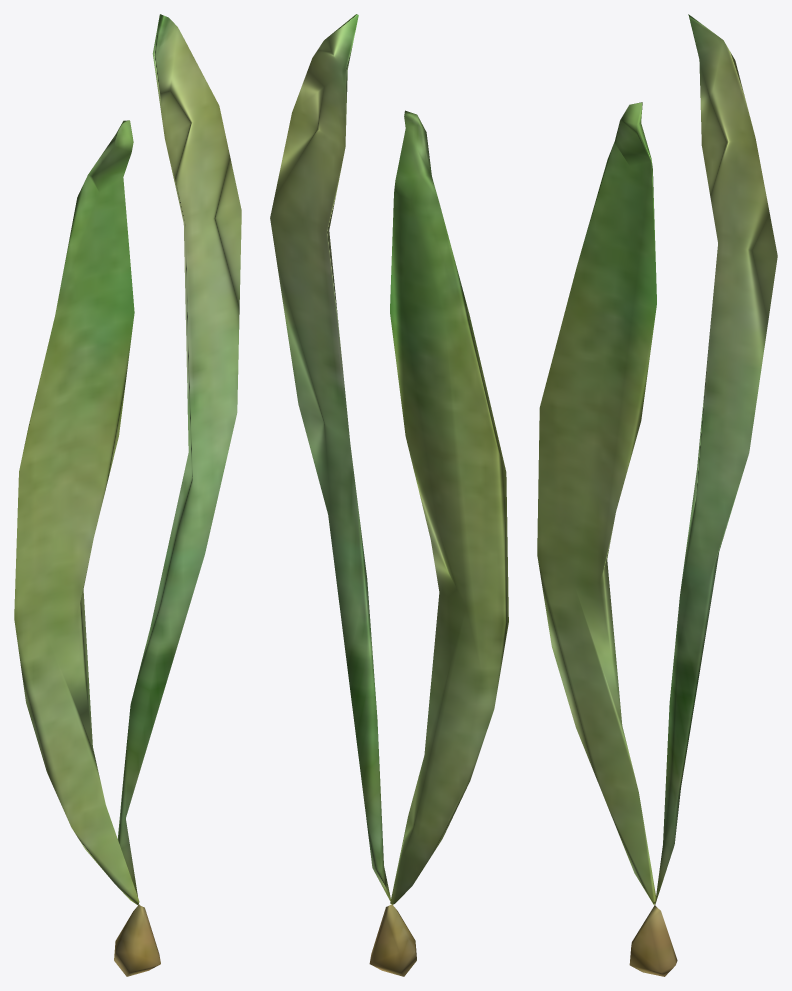
The model's file is broadleaf.glb.
The picture shows the model from 3 angles, left to right: view 1: azimuth 30°, elevation 25°; view 2: azimuth 150°, elevation 25°; view 3: azimuth 330°, elevation 25°; orthographic projection.
Parts seen in each view (by area): view 1: broadleaf; view 2: broadleaf; view 3: broadleaf.
Part boxes in pixels (bbox=[...]): broadleaf: bbox=[14, 14, 241, 976]; broadleaf: bbox=[270, 14, 508, 976]; broadleaf: bbox=[537, 14, 777, 976].
Size of the model in its own units: 0.1748 by 0.6824 by 0.0387.
1 material, 1 textured.
